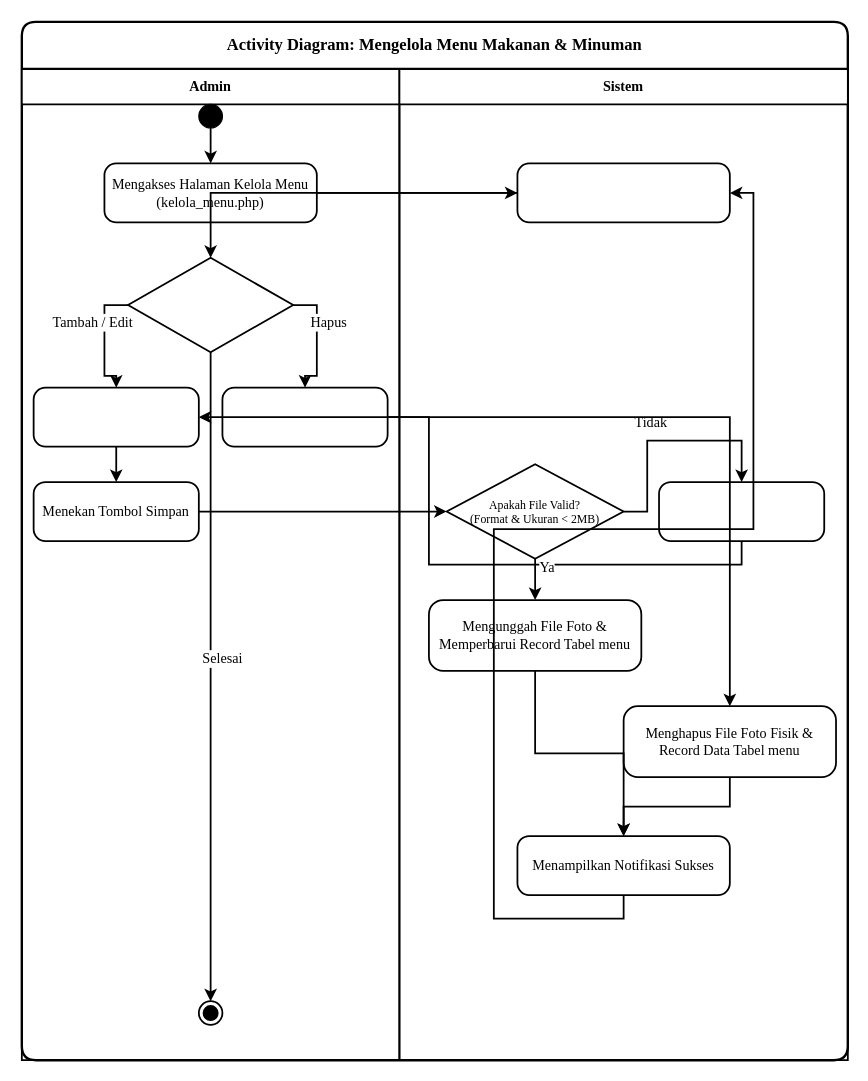
The diagram is 868 pixels wide and 1081 high, and some of its shapes have lost their labels. The box of each missing label's shape, as (x1, y1, x2, y2) in pixels:
Memilih Aksi?: (127, 256, 294, 353)
Menampilkan Daftar Menu Kuliner: (516, 162, 730, 223)
Menampilkan Pesan Kesalahan File: (658, 481, 825, 541)
Mengeklik Tombol Hapus & Konfirmasi: (221, 386, 388, 447)
Mengisi Form Menu & Unggah Foto Produk: (32, 386, 199, 447)
